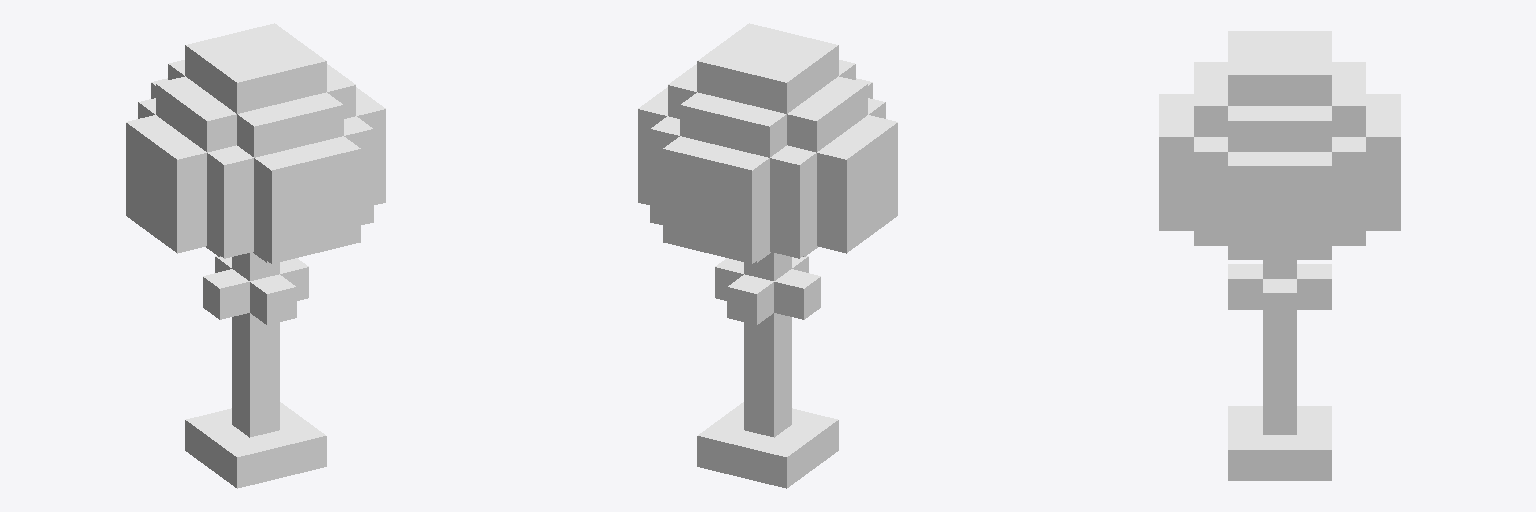
Rendered from Lampe(2).obj.
The picture shows the model from 3 angles: view 1: azimuth 30°, elevation 25°; view 2: azimuth 150°, elevation 25°; view 3: azimuth 270°, elevation 25°; orthographic projection.
Parts seen in each view (by area): view 1: object 1; view 2: object 1; view 3: object 1.
Part boxes in pixels (left/top/right/bottom): object 1: left=126, top=23, right=385, bottom=488; object 1: left=638, top=23, right=897, bottom=488; object 1: left=1159, top=31, right=1400, bottom=480.
Size of the model in its own units: 0.7 by 1.3 by 0.7.